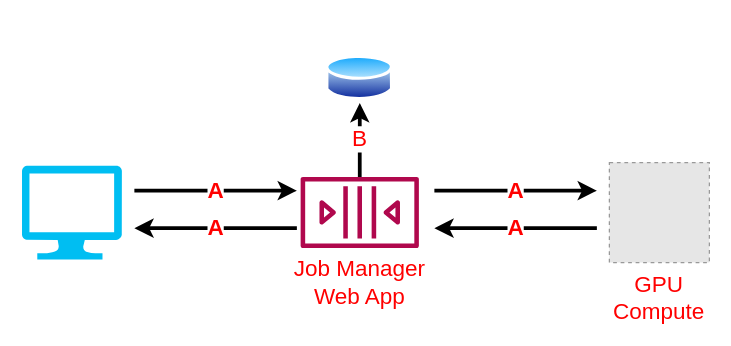
Image size: 731x346. Some labels were removed from this diagram. Grey dashed boxes stand in for pictures. The shapes that lost their labels are listed below. From the top down, each one's box as (x1, y1, x2, y2) in pixels, then its label:
(325, 52, 393, 102): Usage Database
(21, 165, 121, 259): Eclipse Instance
